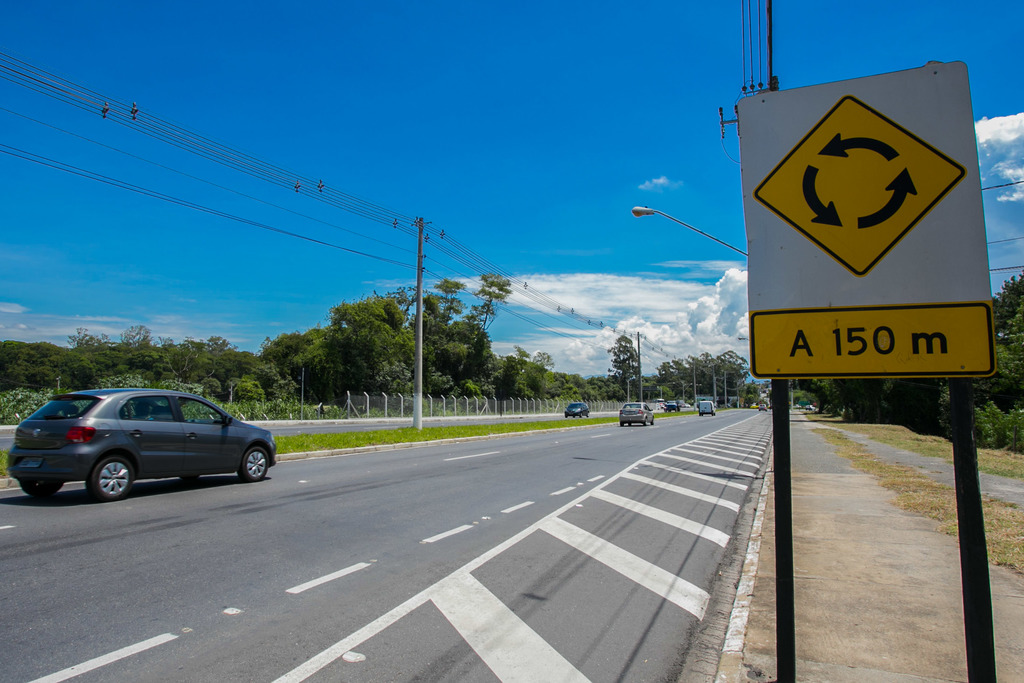roundabout_ahead: (752, 99, 968, 279)
